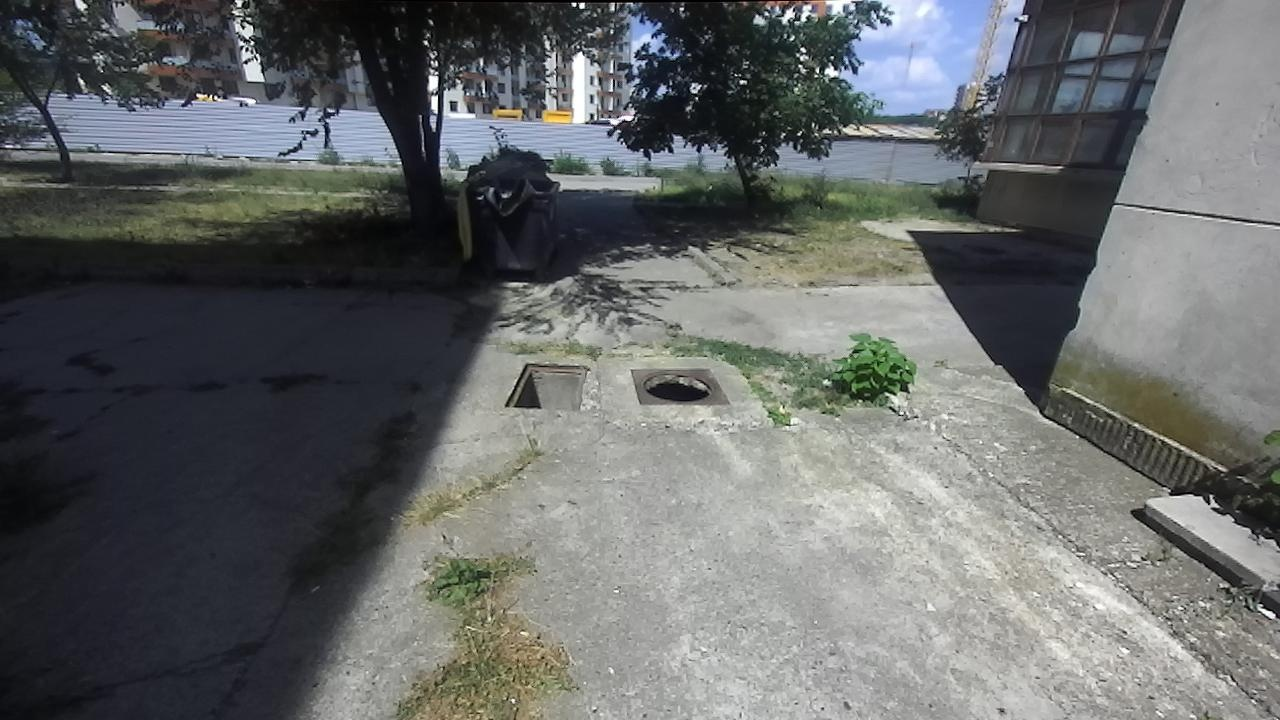drain: (502, 361, 587, 410), (637, 370, 714, 402)
